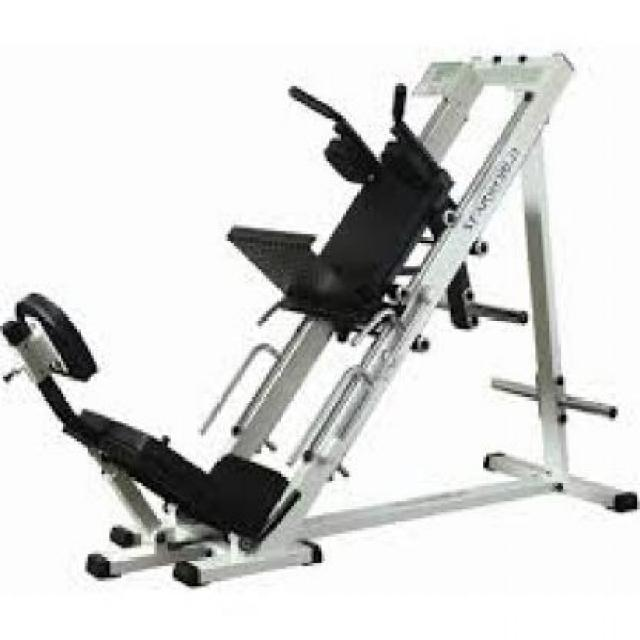leg press: (1, 37, 640, 608)
